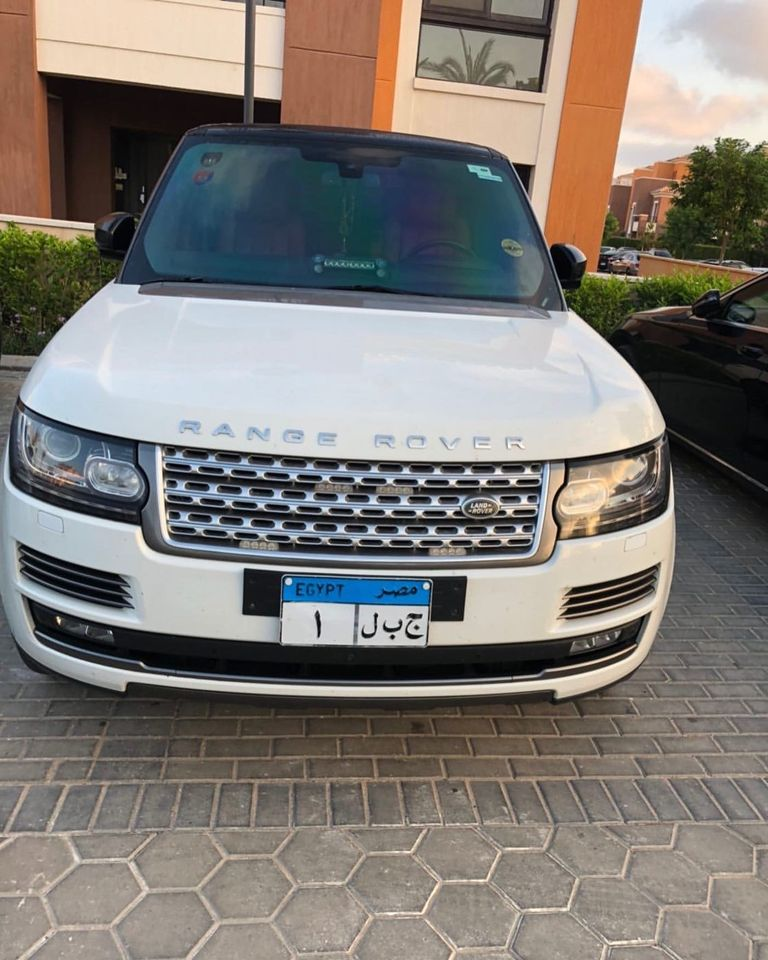carpl: (282, 593, 431, 643)
